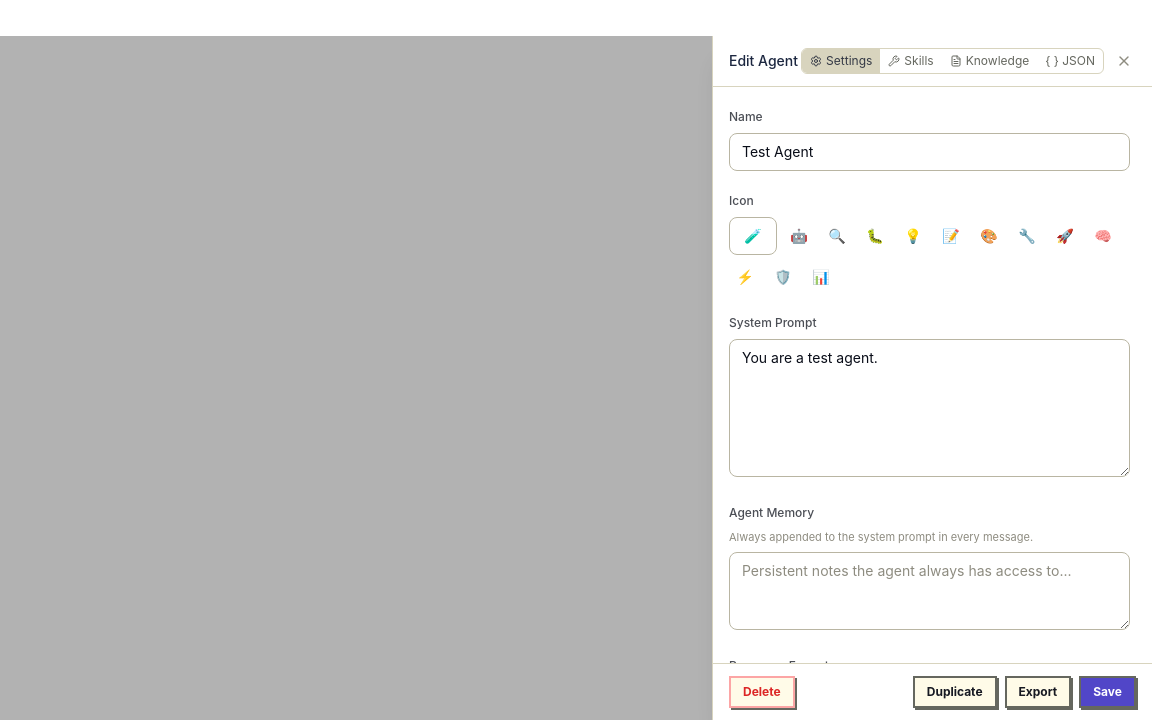
AgentPanel — Skills tab › ap-skills-6: MCP Servers section shows global servers on Skills tab
The image size is (1152, 720).
What coordinates should you click on to do the following:
click the button "Skills"
I would click on:
 (911, 61)
Its box is x1=880 y1=49 x2=942 y2=73.
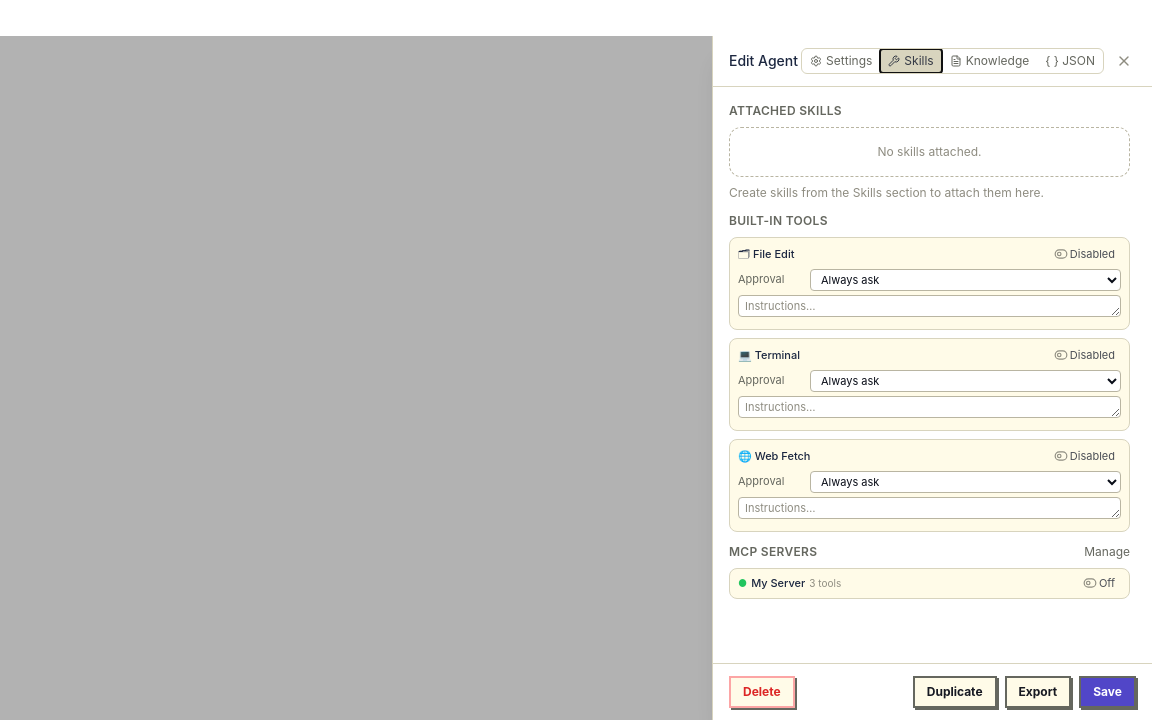
Now the text "My Server" is shown, box x1=751 y1=575 x2=805 y2=592
Now the heading "MCP Servers" is shown, box x1=729 y1=544 x2=817 y2=560
